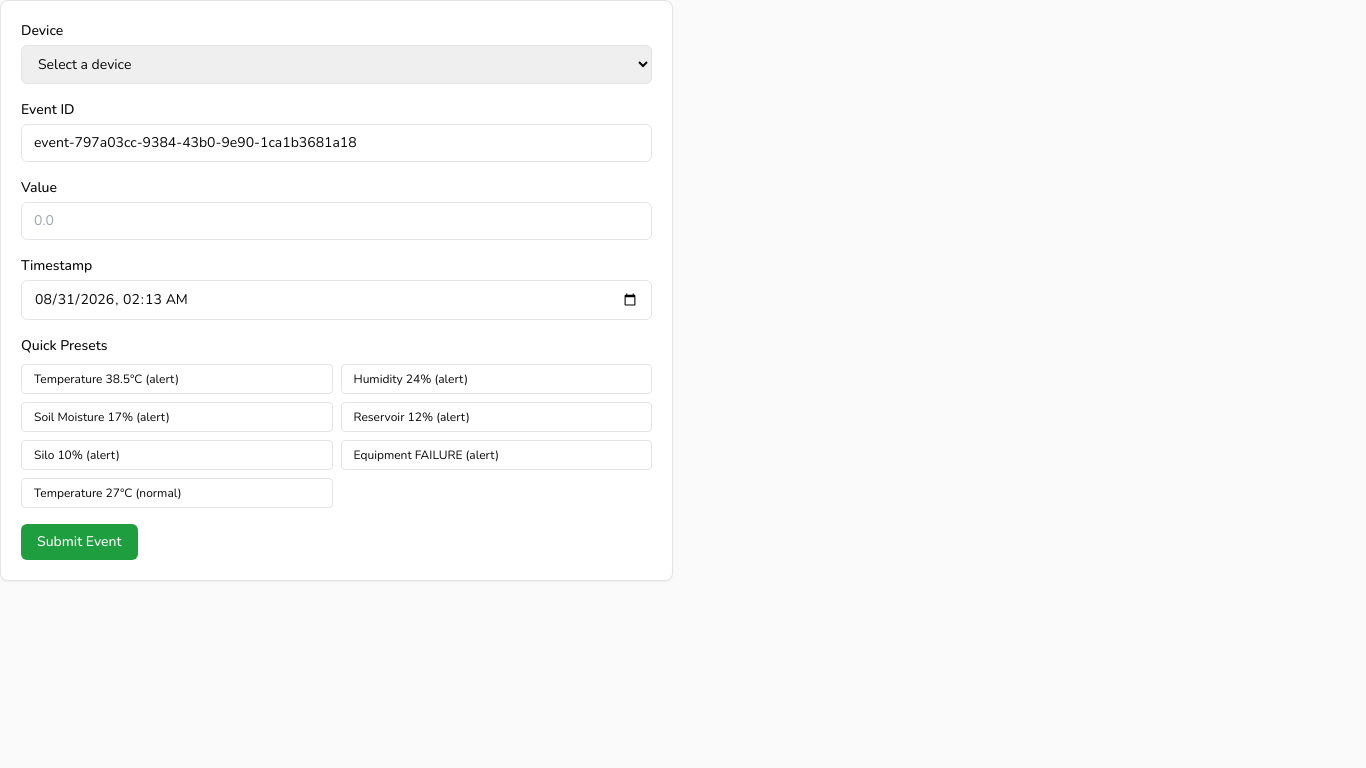
Test: SimulatorForm › shows alert feedback when a notification is found after submit
Select "Temp Sensor (sensor-temp-01)" in the dropdown labelled "Device" at (336, 64), box [21, 45, 652, 84]
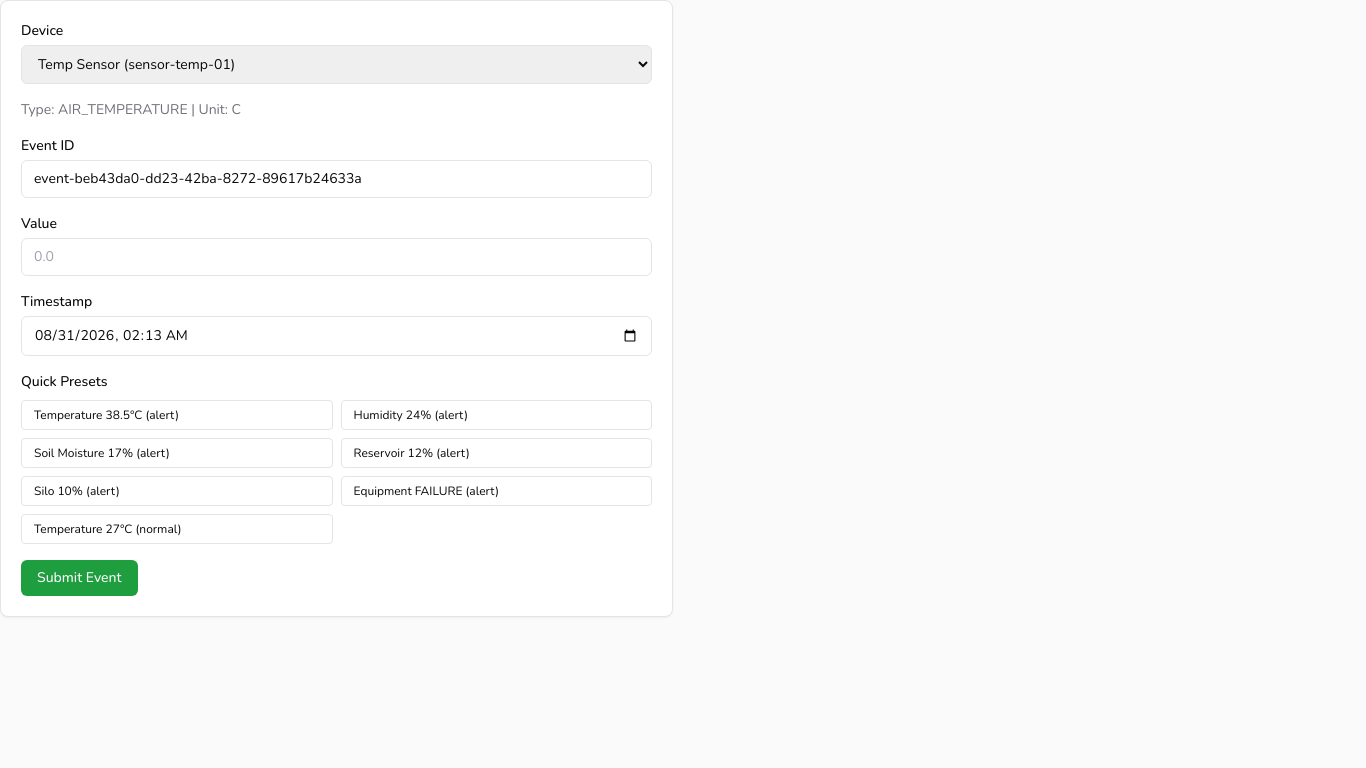
Replace the text in the field labelled "Event ID" with "my-event-id" at (336, 179), box [21, 160, 652, 198]
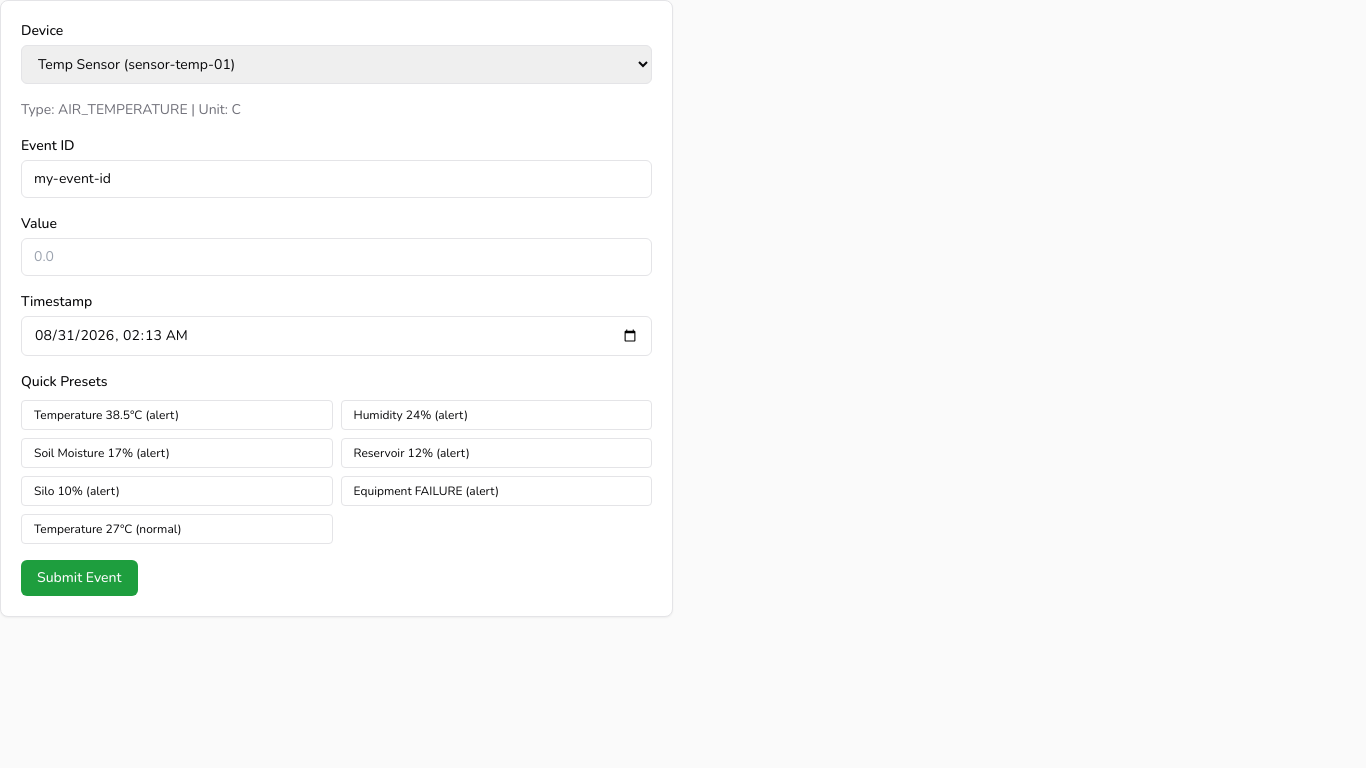
Type "38.5" into the number field labelled "Value" at (336, 257), box [21, 238, 652, 276]
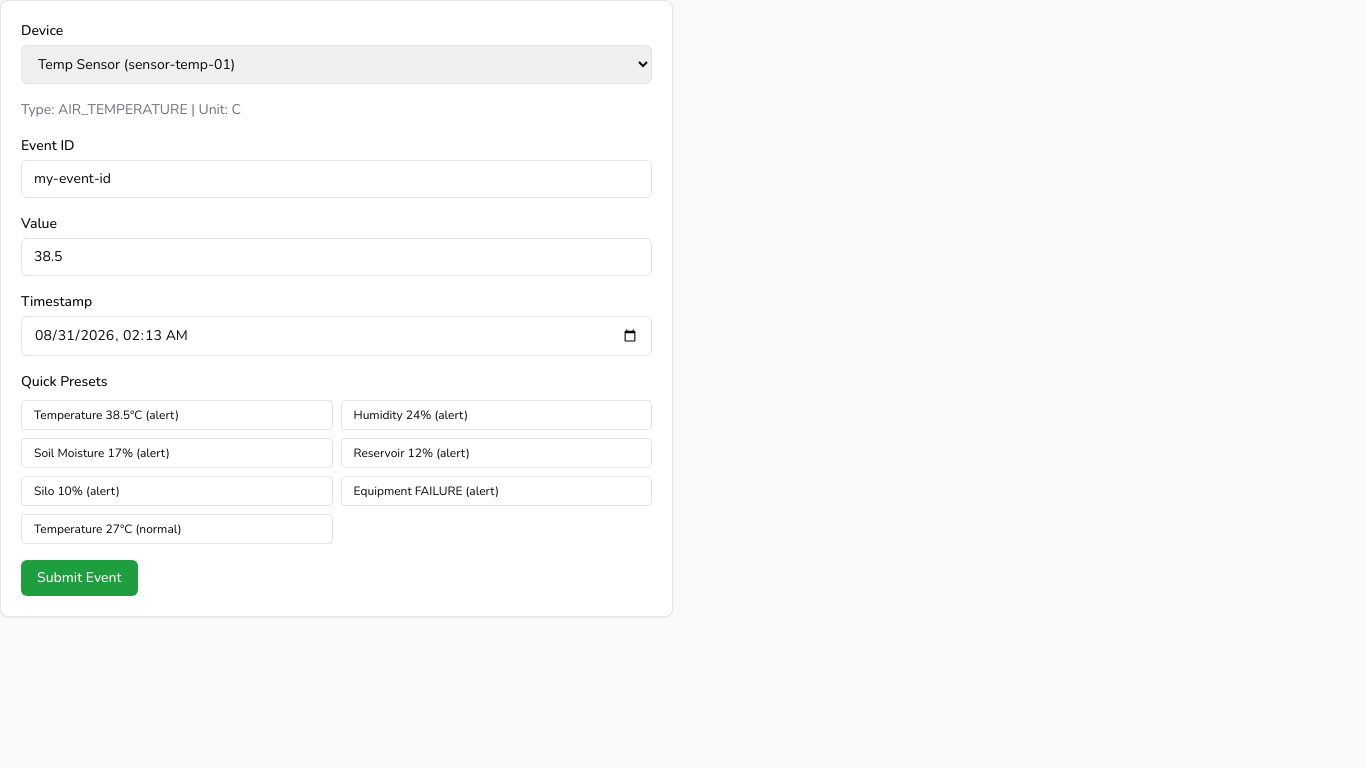
Click the button "Submit Event" at (79, 578), box [21, 560, 138, 596]
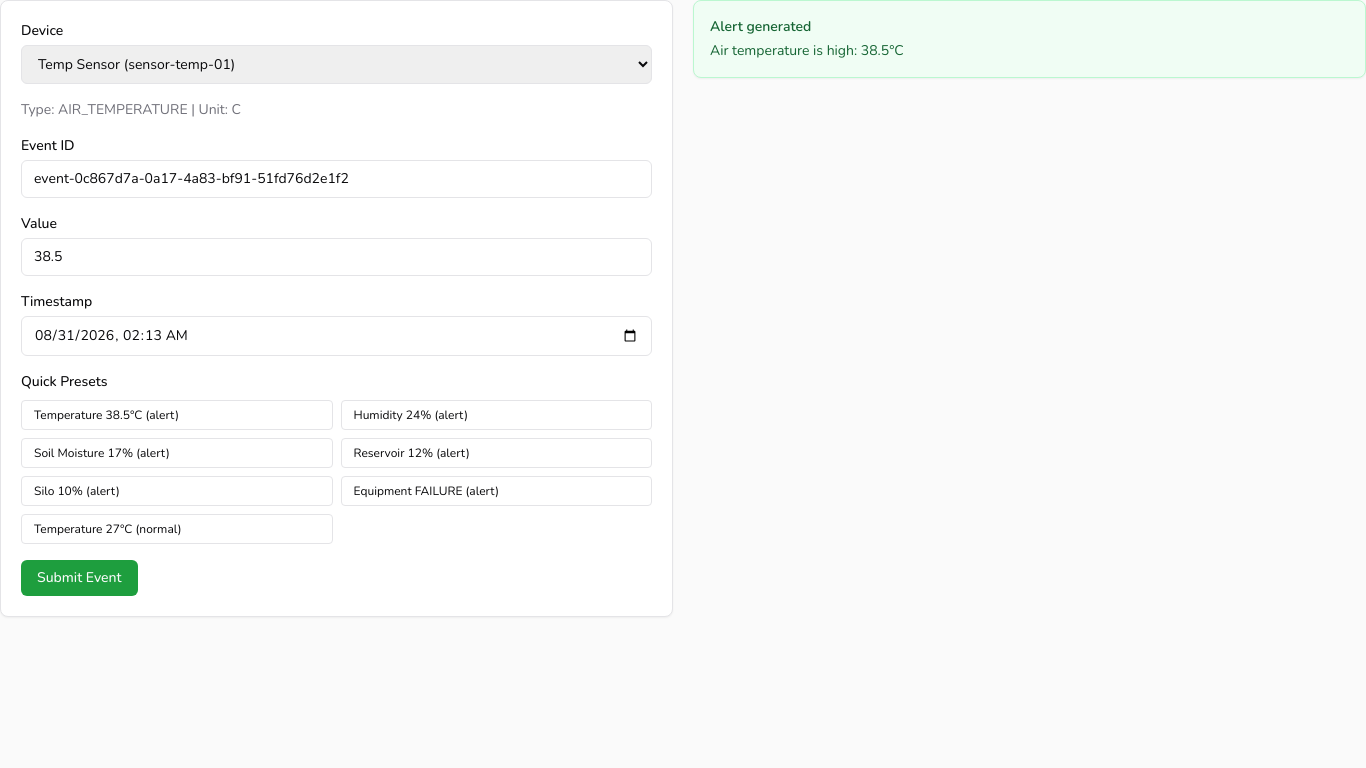
expect the text "Air temperature is high: 38.5°C" is shown: met, box [710, 41, 904, 60]
